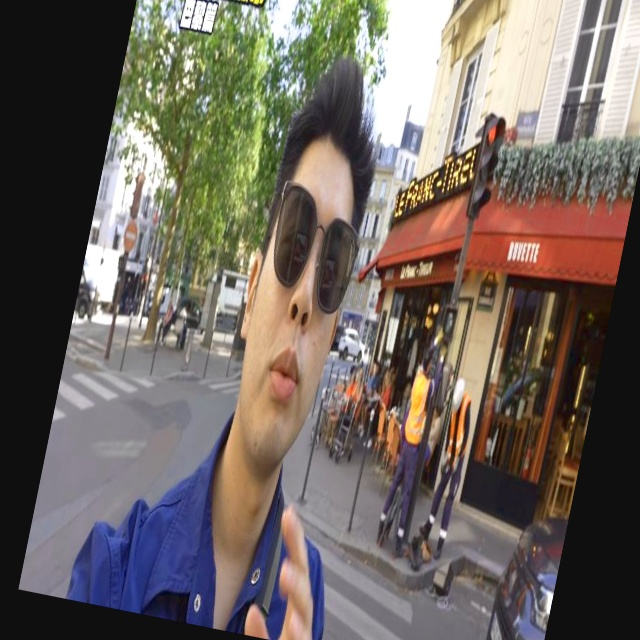Con_Casco: (450, 374, 467, 412)
Con_Chaleco: (401, 372, 433, 444)
Sin_Casco_Mascarrilla: (212, 44, 399, 478)
